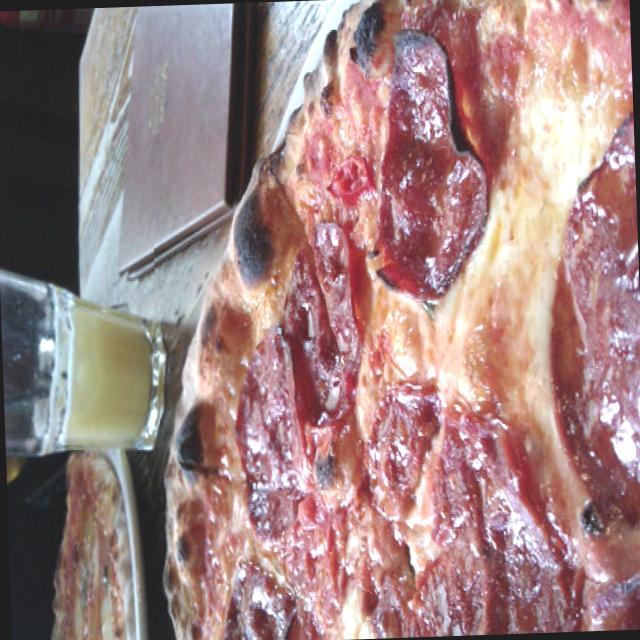cheese: (440, 232, 563, 402), (503, 90, 598, 218), (366, 298, 448, 398)
pepperoni: (361, 22, 494, 317), (531, 158, 640, 515), (425, 404, 579, 636), (222, 330, 330, 555), (281, 237, 362, 427)
pizza: (164, 0, 640, 640)
